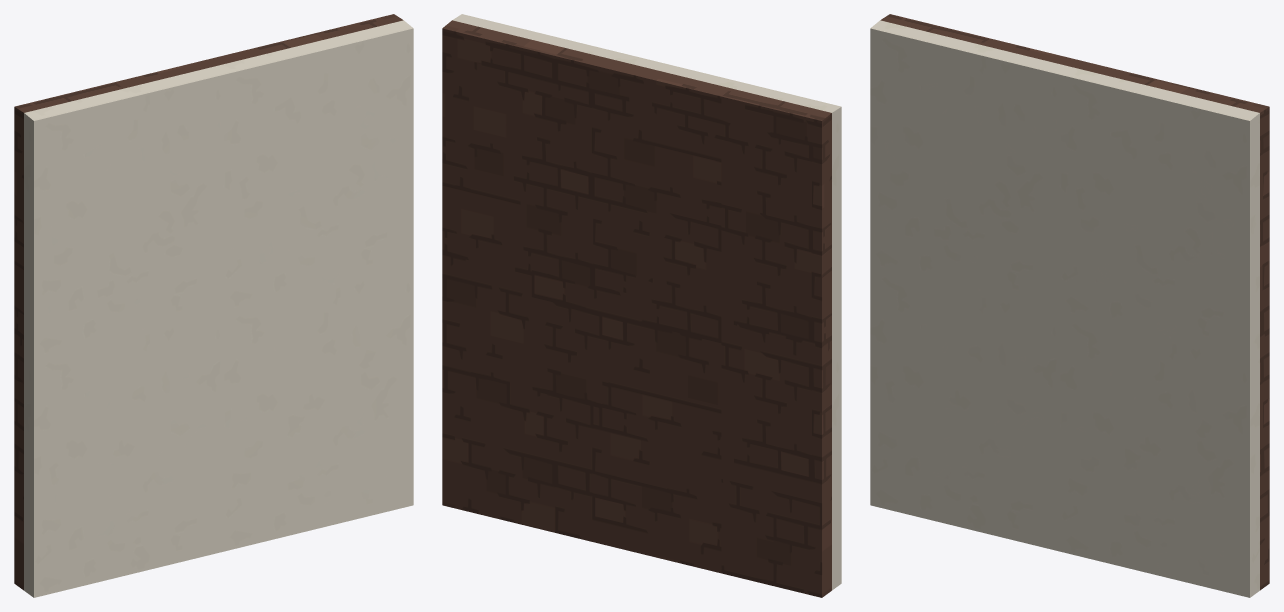
The model's file is SM_Bld_Base_Wall_01_294.obj.
The picture shows the model from 3 angles, left to right: view 1: azimuth 30°, elevation 25°; view 2: azimuth 150°, elevation 25°; view 3: azimuth 330°, elevation 25°; orthographic projection.
Visible parts, largest first — view 1: SM_Bld_Base_Wall_01_1, SM_Bld_Base_Wall_01_0; view 2: SM_Bld_Base_Wall_01_0, SM_Bld_Base_Wall_01_1; view 3: SM_Bld_Base_Wall_01_1, SM_Bld_Base_Wall_01_0.
Part boxes in pixels (left/top/right/bottom): SM_Bld_Base_Wall_01_1: left=24, top=20, right=413, bottom=597; SM_Bld_Base_Wall_01_0: left=14, top=14, right=403, bottom=590; SM_Bld_Base_Wall_01_0: left=442, top=20, right=831, bottom=597; SM_Bld_Base_Wall_01_1: left=452, top=14, right=841, bottom=590; SM_Bld_Base_Wall_01_1: left=870, top=20, right=1259, bottom=597; SM_Bld_Base_Wall_01_0: left=880, top=14, right=1269, bottom=590.
Bounding box in the file's own units: 2.5 × 3.01 × 0.225.
Materials: 2 (2 with a texture image).
